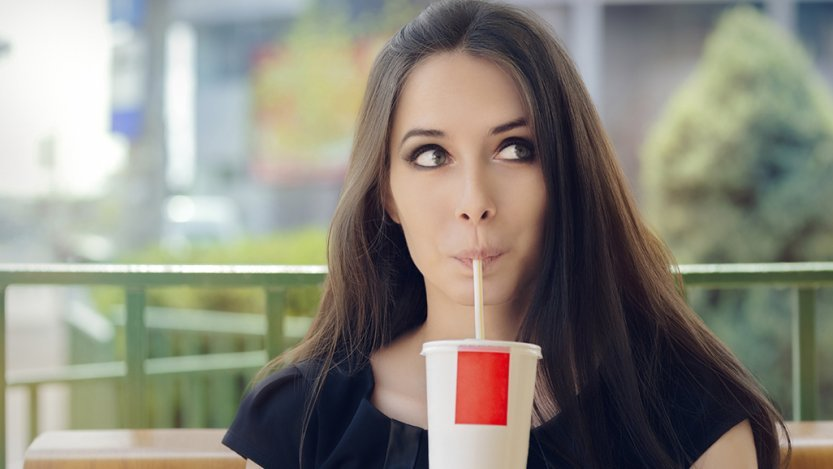drinking: (323, 6, 641, 454)
